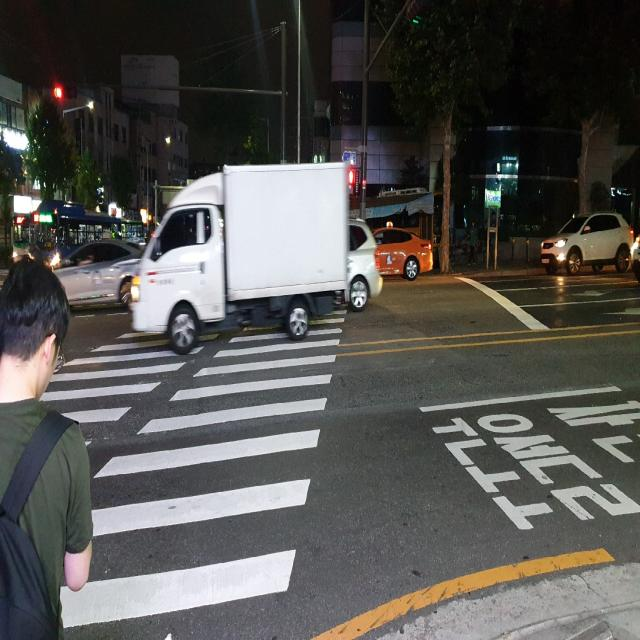빨간불: (349, 169, 360, 194)
횡단보도: (37, 300, 349, 640)
